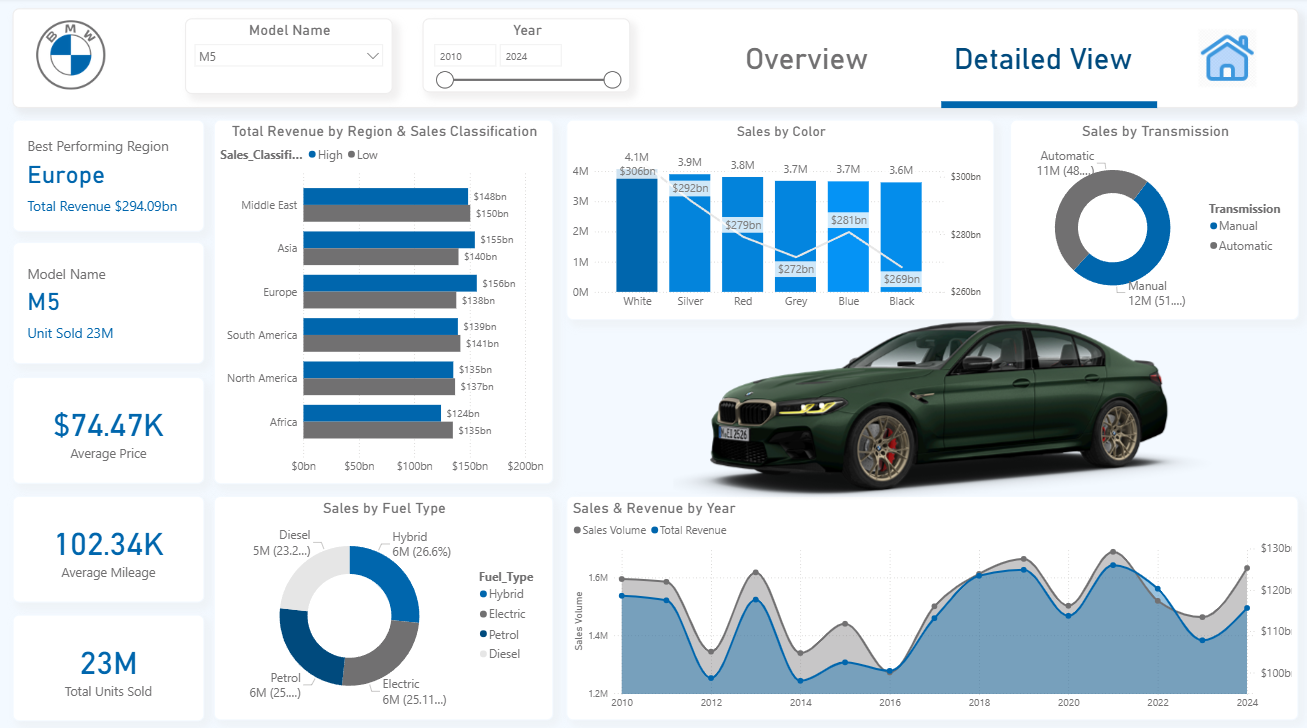

The page's visual inventory and layout, read from the dashboard file:
{"tool":"powerbi","page":{"name":"Detailed View","canvas":[1920,1080],"ordinal":2},"visuals":[{"type":"cardVisual","fields":{"Data":["Min(BMW_Car_Sales_Classification.Region)"]},"box":[18.5,179.1,282,164.7],"z":0},{"type":"card","fields":{"Values":["Measures Table.Average Price"]},"box":[18.5,557.8,282,156.4],"z":1000},{"type":"cardVisual","fields":{"Data":["Min(BMW_Car_Sales_Classification.Model)"]},"box":[18.5,360.2,282,179.1],"z":2000},{"type":"card","fields":{"Values":["Measures Table.Average Mileage"]},"box":[18.5,732.8,282,156.4],"z":3000},{"type":"shape","box":[18.5,16.5,1887.5,146.1],"z":4000},{"type":"card","fields":{"Values":["Measures Table.Total Units Sold"]},"box":[18.5,905.7,282,156.4],"z":5000},{"type":"image","box":[45.3,28.8,115.3,111.1],"z":6000},{"type":"textbox","box":[1035.3,59.7,298.5,80.3],"z":7000},{"type":"shape","box":[1381.1,113,317,88.5],"z":8000},{"type":"textbox","box":[1362.6,59.7,335.5,80.3],"z":9000},{"type":"image","box":[1751.6,35,98.8,109.1],"z":10000},{"type":"lineChart","title":"Sales & Revenue by Year","fields":{"Category":["BMW_Car_Sales_Classification.Year"],"Y":["Sum(BMW_Car_Sales_Classification.Sales_Volume)"],"Y2":["Measures Table.Total Revenue"]},"box":[831.6,732.8,1074.4,329.3],"z":11000},{"type":"lineStackedColumnComboChart","title":"Sales by Color","fields":{"Category":["BMW_Car_Sales_Classification.Color"],"Y":["Sum(BMW_Car_Sales_Classification.Sales_Volume)"],"Y2":["Measures Table.Total Revenue"]},"box":[831.6,179.1,627.8,294.3],"z":12000},{"type":"donutChart","title":"Sales by Fuel Type","fields":{"Category":["BMW_Car_Sales_Classification.Fuel_Type"],"Y":["Sum(BMW_Car_Sales_Classification.Sales_Volume)"]},"box":[312.9,732.8,498.1,329.3],"z":13000},{"type":"slicer","title":"Model Name","fields":{"Values":["BMW_Car_Sales_Classification.Model"]},"box":[271.7,30.9,304.6,111.1],"z":14000},{"type":"slicer","title":"Year","fields":{"Values":["BMW_Car_Sales_Classification.Year"]},"box":[619.6,30.9,304.6,109.1],"z":15000},{"type":"shape","box":[1035.3,20.6,298.5,144.1],"z":16000},{"type":"clusteredBarChart","title":"Total Revenue by Region & Sales Classification","fields":{"Category":["BMW_Car_Sales_Classification.Region"],"Y":["Measures Table.Total Revenue"],"Series":["BMW_Car_Sales_Classification.Sales_Classification"]},"box":[312.9,179.1,498.1,535.2],"z":17000},{"type":"donutChart","title":"Sales by Transmission","fields":{"Category":["BMW_Car_Sales_Classification.Transmission"],"Y":["Sum(BMW_Car_Sales_Classification.Sales_Volume)"]},"box":[1482,179.1,424,294.3],"z":18000},{"type":"imageDB603108E3FF4EBFB8047F5653368E8C","fields":{"imageUrl":["BMW Images.URL"],"imageTitle":["BMW_Car_Sales_Classification.Model"]},"box":[983.9,360.2,922.1,428.1],"z":19000}]}

Visuals, with their boxes in screenshot pixels (x1, y1, x2, y2), scaled from the page's 1920x1080 canvas onto the 1307x728 screenshot:
cardVisual - Min(BMW_Car_Sales_Classification.Region): [left=13, top=121, right=205, bottom=232]
card - Measures Table.Average Price: [left=13, top=376, right=205, bottom=481]
cardVisual - Min(BMW_Car_Sales_Classification.Model): [left=13, top=243, right=205, bottom=364]
card - Measures Table.Average Mileage: [left=13, top=494, right=205, bottom=599]
shape: [left=13, top=11, right=1297, bottom=110]
card - Measures Table.Total Units Sold: [left=13, top=611, right=205, bottom=716]
image: [left=31, top=19, right=109, bottom=94]
textbox: [left=705, top=40, right=908, bottom=94]
shape: [left=940, top=76, right=1156, bottom=136]
textbox: [left=928, top=40, right=1156, bottom=94]
image: [left=1192, top=24, right=1260, bottom=97]
"Sales & Revenue by Year" lineChart: [left=566, top=494, right=1297, bottom=716]
"Sales by Color" lineStackedColumnComboChart: [left=566, top=121, right=993, bottom=319]
"Sales by Fuel Type" donutChart: [left=213, top=494, right=552, bottom=716]
"Model Name" slicer: [left=185, top=21, right=392, bottom=96]
"Year" slicer: [left=422, top=21, right=629, bottom=94]
shape: [left=705, top=14, right=908, bottom=111]
"Total Revenue by Region & Sales Classification" clusteredBarChart: [left=213, top=121, right=552, bottom=481]
"Sales by Transmission" donutChart: [left=1009, top=121, right=1297, bottom=319]
imageDB603108E3FF4EBFB8047F5653368E8C - BMW Images.URL x BMW_Car_Sales_Classification.Model: [left=670, top=243, right=1297, bottom=531]
